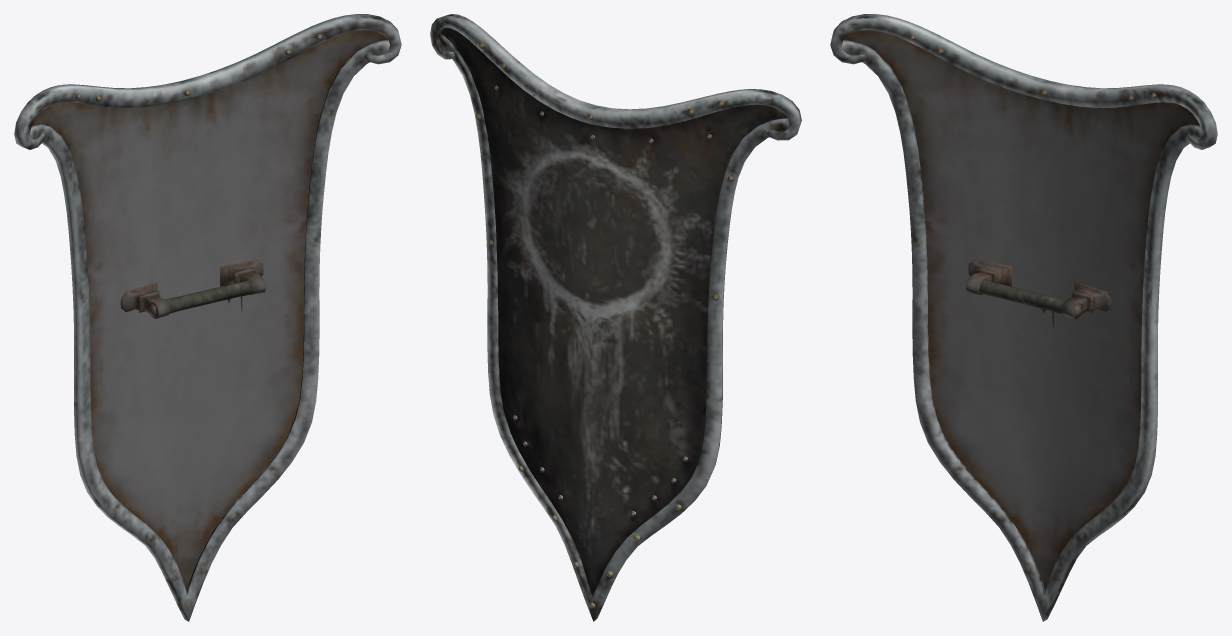
File: weapon-wp_a_2223.glb
3 renders of one model, left to right at view 1: azimuth 30°, elevation 25°; view 2: azimuth 150°, elevation 25°; view 3: azimuth 330°, elevation 25°, orthographic. The views are drawn at different scales.
Parts seen in each view (by area): view 1: wp_a_2223_mesh; view 2: wp_a_2223_mesh; view 3: wp_a_2223_mesh.
Part boxes in pixels (bbox=[...]): wp_a_2223_mesh: bbox=[14, 14, 401, 621]; wp_a_2223_mesh: bbox=[430, 14, 801, 621]; wp_a_2223_mesh: bbox=[830, 14, 1217, 621].
Size of the model in its own units: 0.9829 by 1.41 by 0.143.
Materials: 2 (2 with a texture image).
